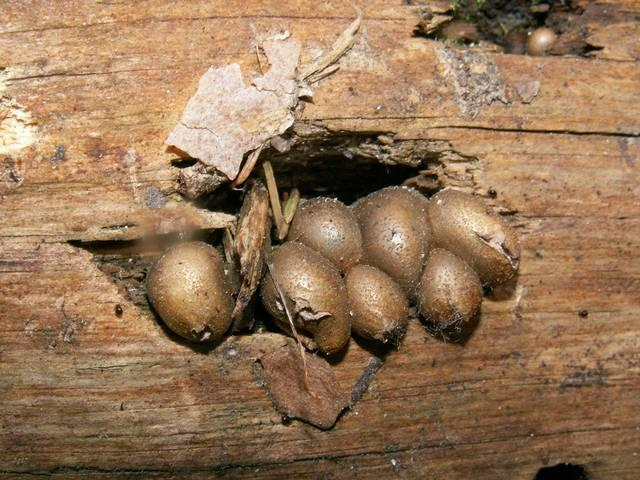poisonous_mushroom: (259, 182, 521, 356), (260, 240, 352, 356), (426, 186, 521, 290), (144, 239, 235, 344), (349, 183, 432, 295), (414, 247, 483, 337), (285, 195, 363, 272), (344, 263, 409, 348)
